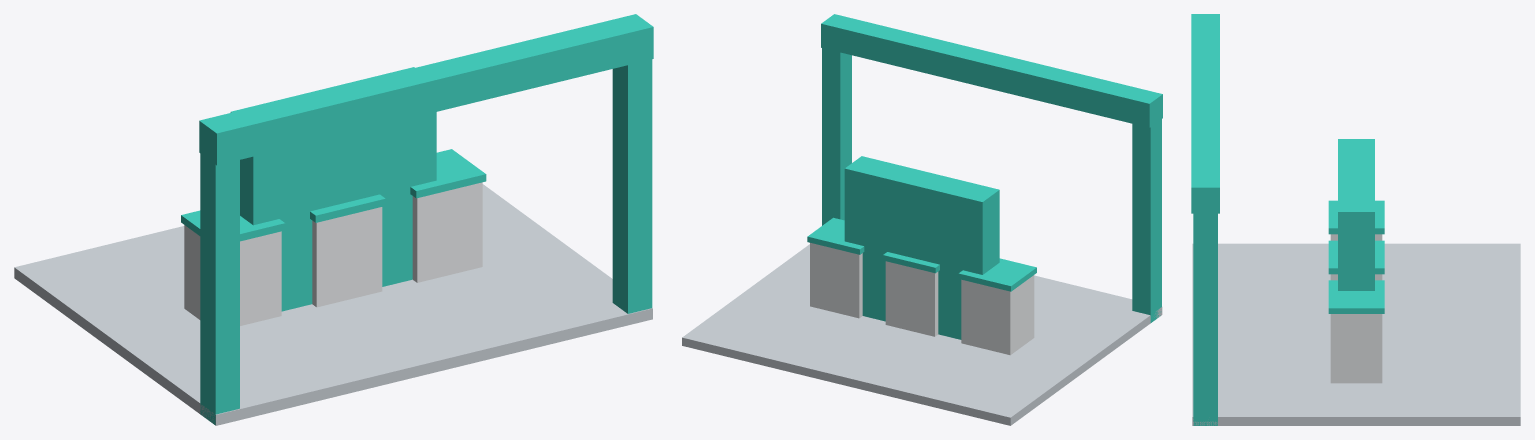
The picture shows the model from 3 angles, left to right: view 1: azimuth 30°, elevation 25°; view 2: azimuth 150°, elevation 25°; view 3: azimuth 270°, elevation 25°; orthographic projection. The views are drawn at different scales.
Parts seen in each view (by area): view 1: Exhibition Booth Concept; view 2: Exhibition Booth Concept; view 3: Exhibition Booth Concept.
Part boxes in pixels (x1,y1,x2,y2): Exhibition Booth Concept: (14,14,653,425); Exhibition Booth Concept: (682,14,1162,425); Exhibition Booth Concept: (1191,14,1520,425).
Bounding box in the file's own units: 5 × 3.2 × 4.02.
